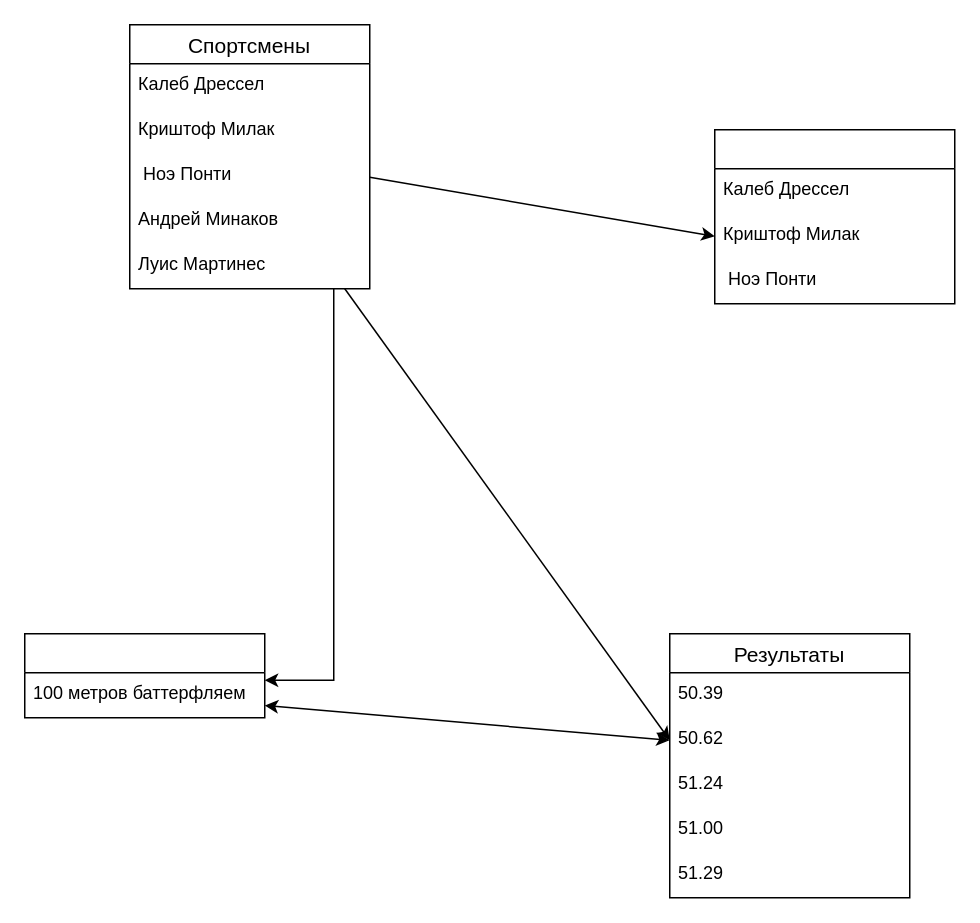
This 980x923 diagram has some shape labels left out. The shapes that lost their labels are listed below. From the top down, each one's box as (x1, y1, x2, y2) in pixels, then its label:
(713, 128, 955, 304): Список призеров
(23, 632, 265, 718): Соревнования
